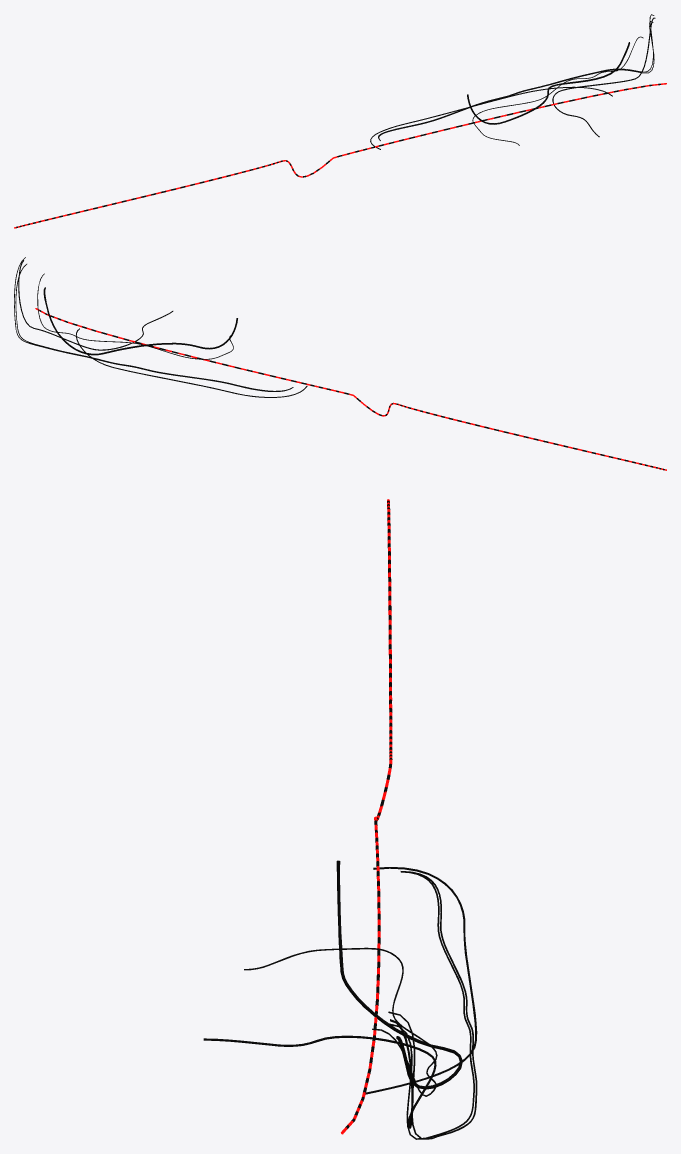
Rendered from wires-ljcLtivG.glb.
3 renders of one model, top to bottom at view 1: azimuth 30°, elevation 25°; view 2: azimuth 150°, elevation 25°; view 3: azimuth 270°, elevation 25°, orthographic. The views are drawn at different scales.
Parts seen in each view (by area): view 1: StudyShelf_1286, StudyShelf_1287; view 2: StudyShelf_1286, StudyShelf_1287; view 3: StudyShelf_1286, StudyShelf_1287.
Boxes of the visible parts, x1,y1,x2,y2 form: StudyShelf_1286: [16, 14, 660, 228]; StudyShelf_1287: [14, 83, 666, 228]; StudyShelf_1286: [14, 257, 664, 470]; StudyShelf_1287: [35, 308, 666, 470]; StudyShelf_1286: [203, 500, 477, 1139]; StudyShelf_1287: [341, 499, 392, 1134].
Bounding box in the file's own units: 795 × 87.63 × 146.
